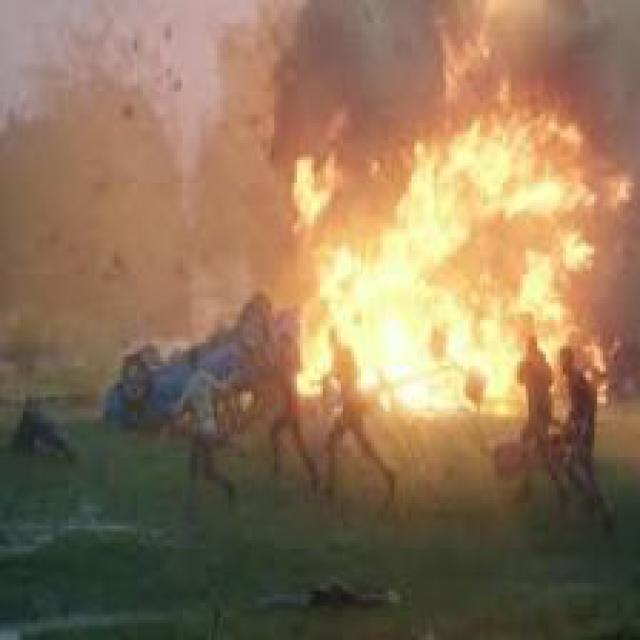fire: (280, 89, 614, 414)
